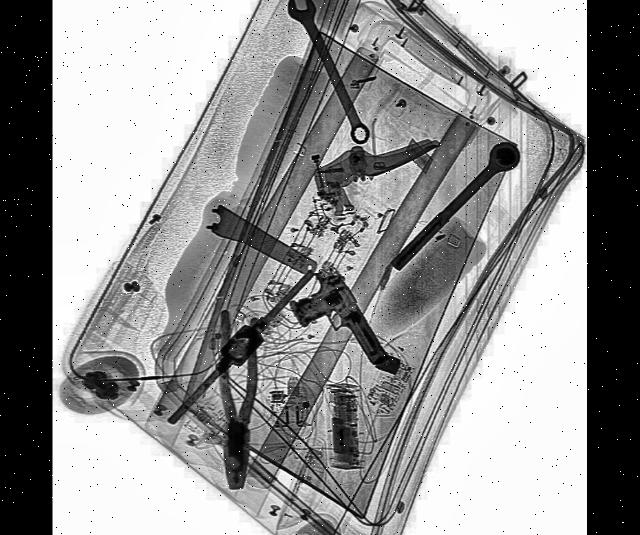Gun: (284, 254, 391, 404)
Pliers: (216, 310, 259, 490)
Wrench: (283, 0, 374, 154)
